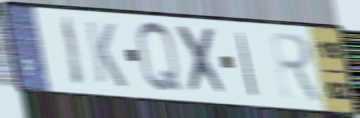I: (60, 13, 88, 90), (235, 29, 260, 99)
K: (82, 18, 129, 90)
Q: (134, 19, 186, 96)
R: (267, 29, 326, 107)
X: (172, 24, 233, 99)
